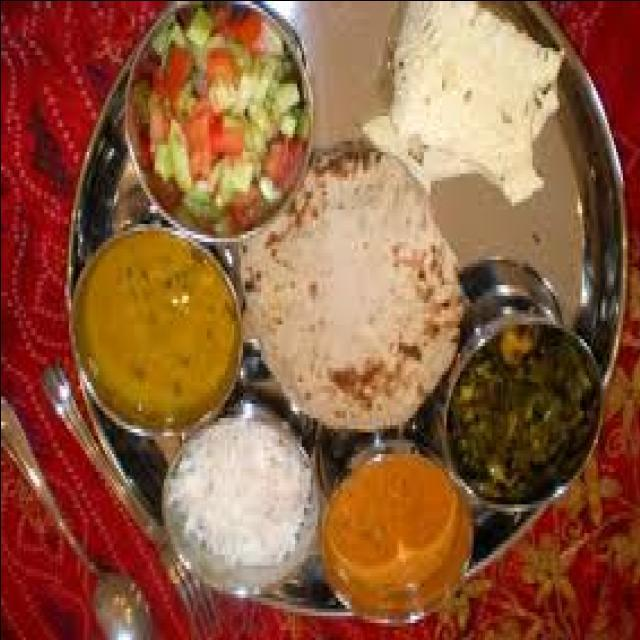dal: (73, 212, 238, 441)
rice: (440, 309, 599, 508)
roti: (256, 155, 466, 444)
veg-fry: (451, 298, 595, 508)
